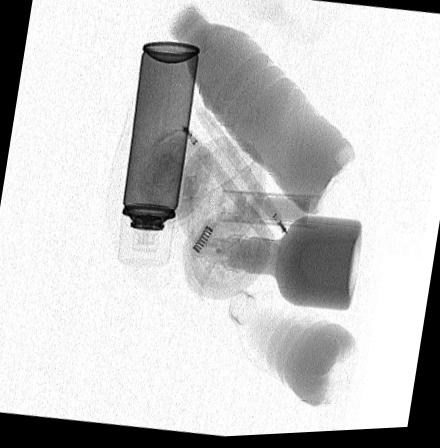Sprayer: (117, 43, 200, 268)
